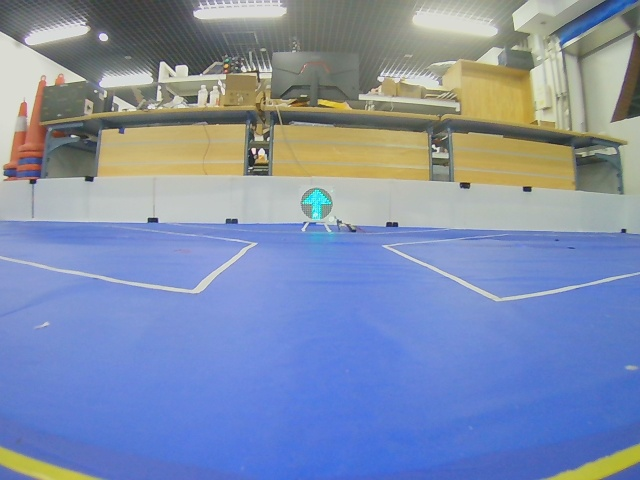straight_green: (301, 188, 333, 221)
